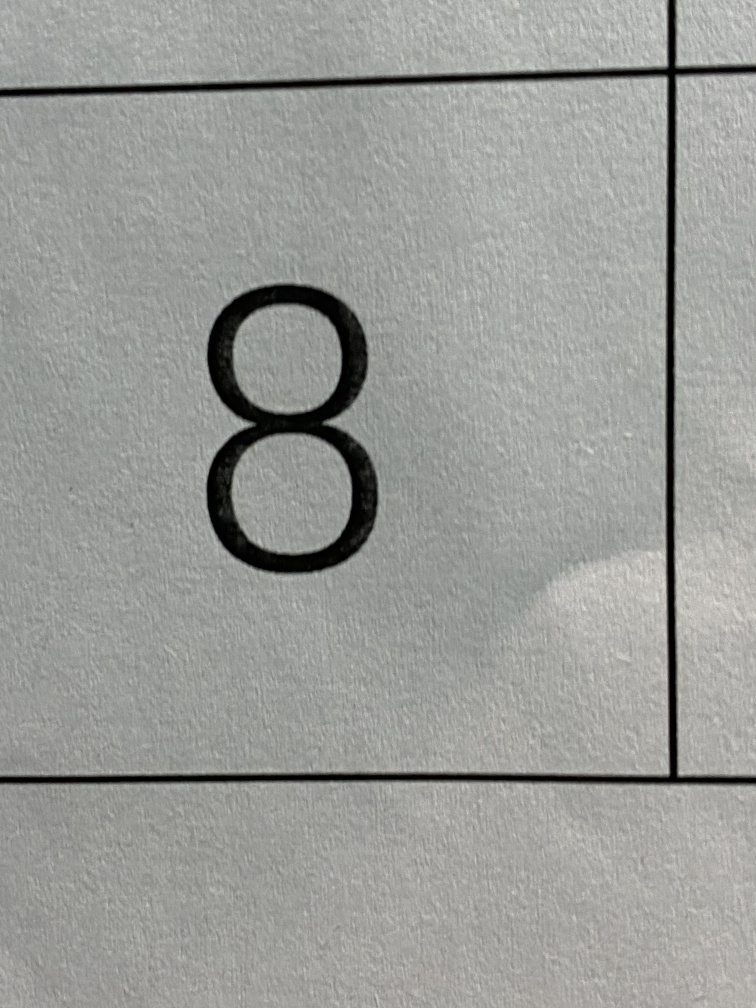eight: (140, 231, 446, 624)
